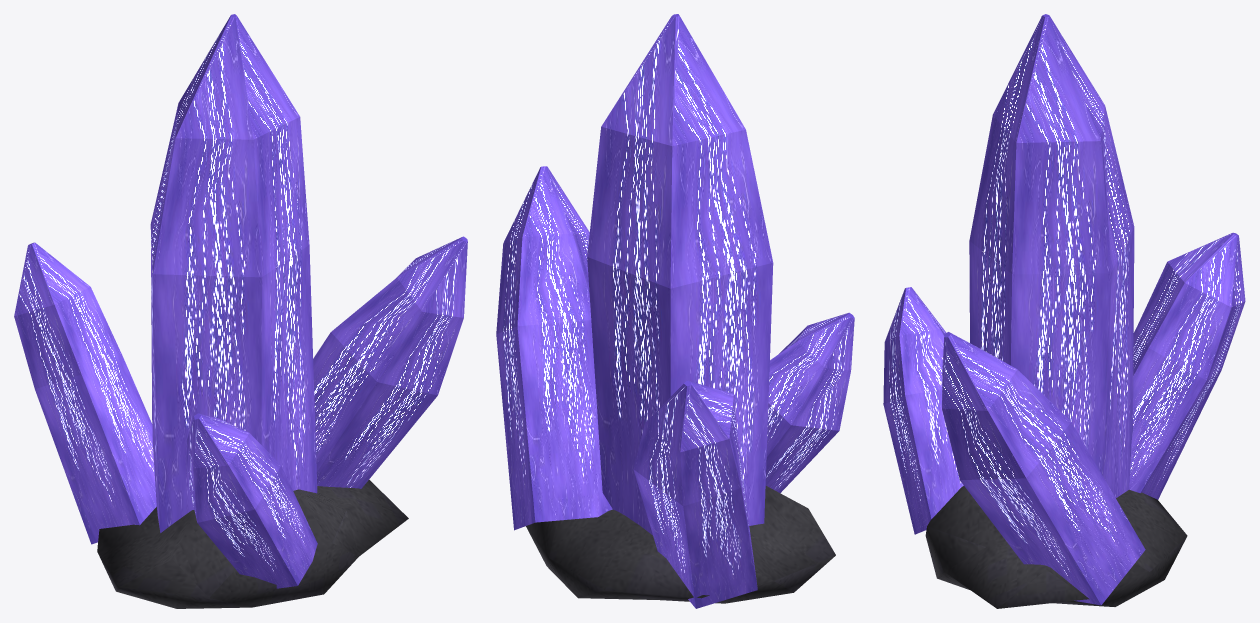
File: thunder_crystal.glb
3 renders of one model, left to right at view 1: azimuth 30°, elevation 25°; view 2: azimuth 150°, elevation 25°; view 3: azimuth 270°, elevation 25°, orthographic.
Parts seen in each view (by area): view 1: ThunderCrystals, CrystalBase; view 2: ThunderCrystals, CrystalBase; view 3: ThunderCrystals, CrystalBase.
Boxes of the visible parts, x1,y1,x2,y2 form: ThunderCrystals: (14, 14, 467, 588); CrystalBase: (97, 479, 408, 608); ThunderCrystals: (496, 14, 854, 608); CrystalBase: (526, 486, 835, 603); ThunderCrystals: (883, 14, 1245, 605); CrystalBase: (925, 486, 1187, 608).
Bounding box in the file's own units: 0.2074 × 0.32 × 0.1925.
Materials: 2 (2 with a texture image).
